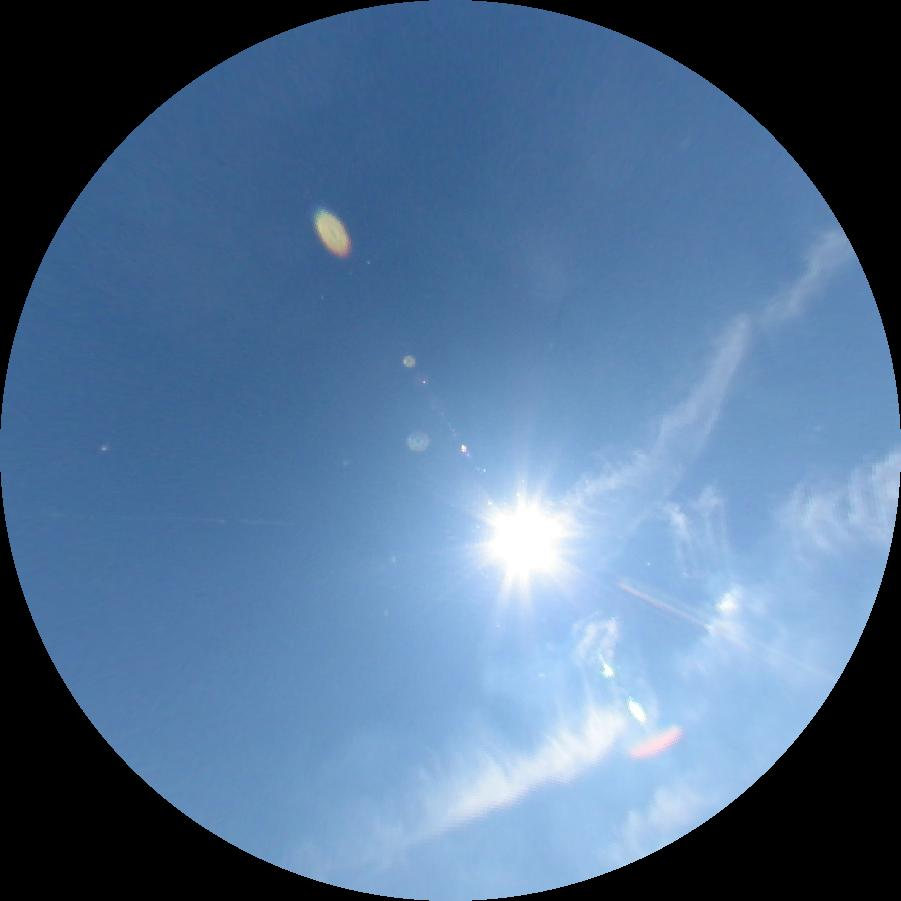contrail veryold: (547, 229, 854, 597), (360, 618, 627, 866)
parasite: (615, 577, 709, 630)
sun: (486, 502, 563, 580)
